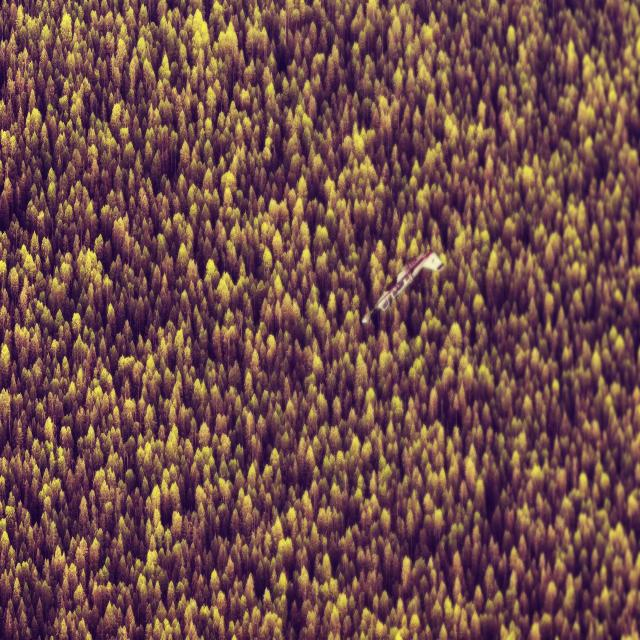airplane: (361, 249, 444, 325)
